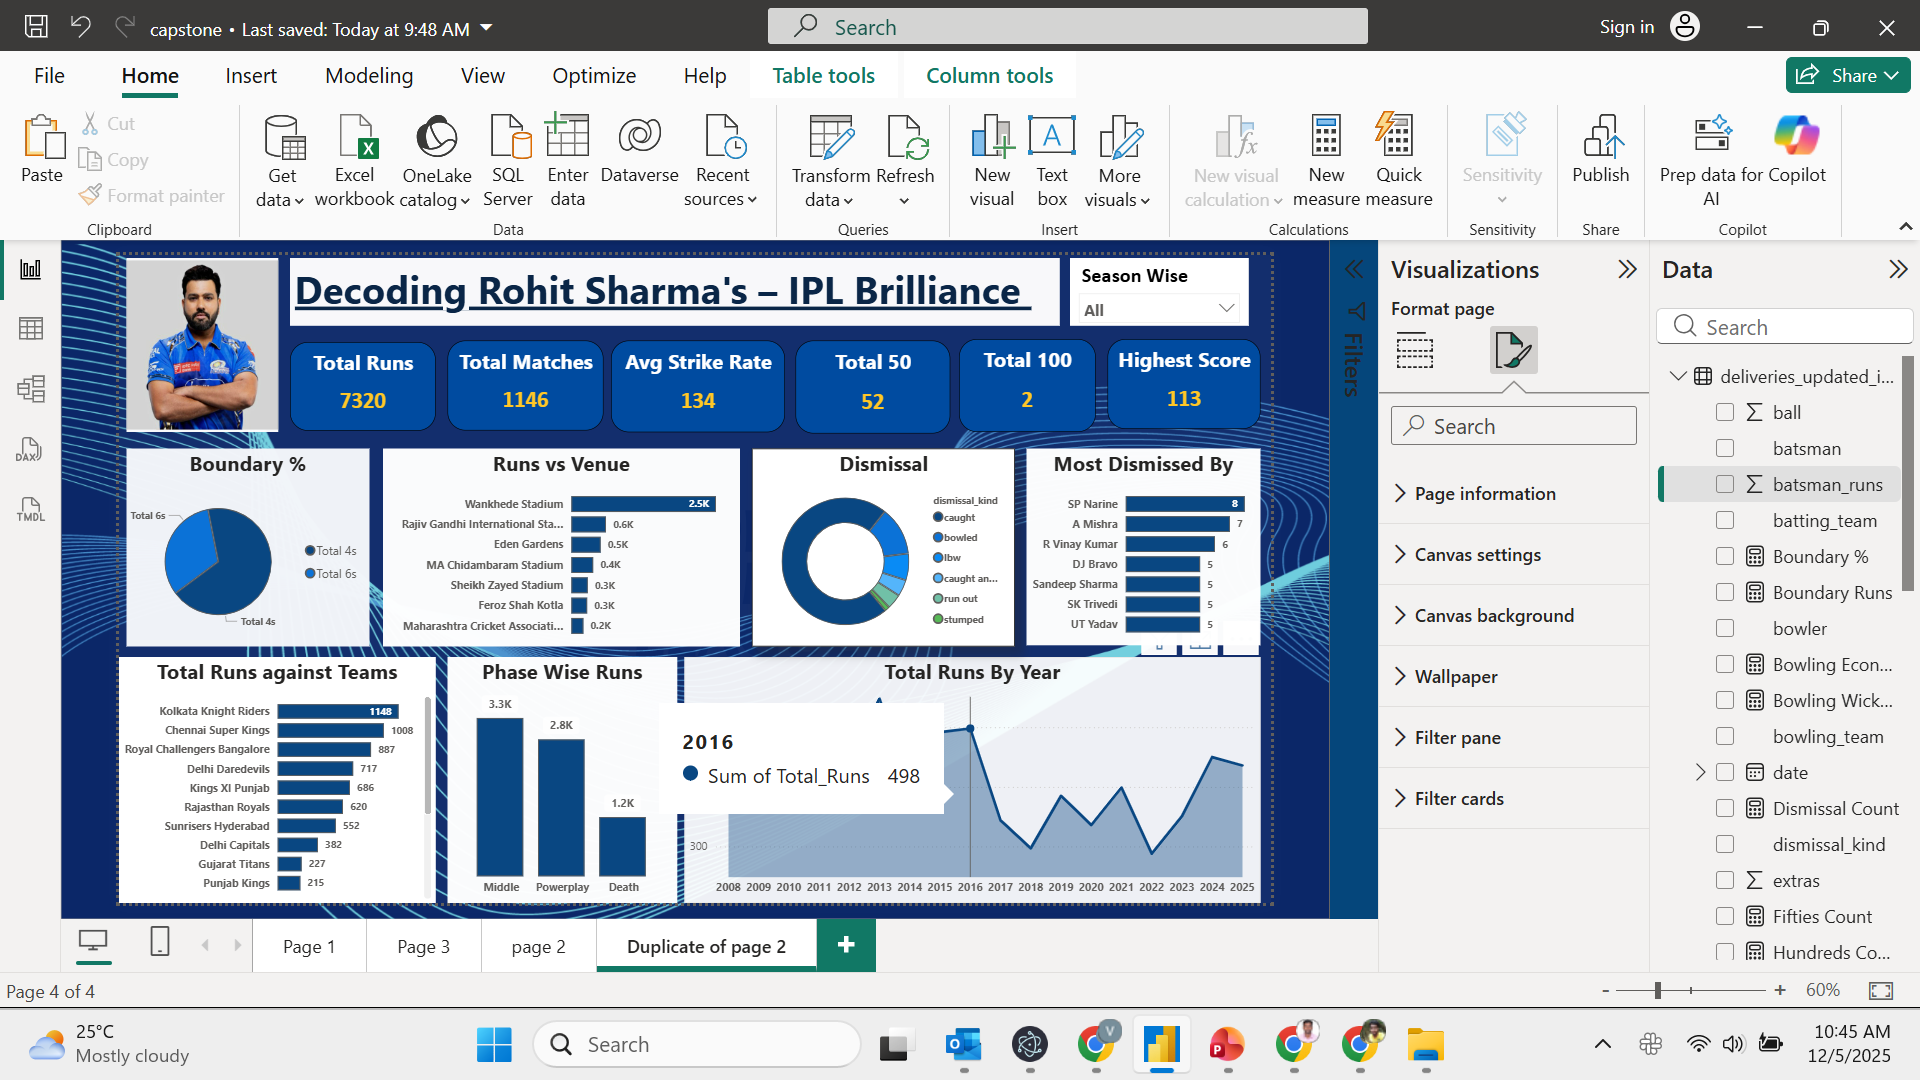

Layout of this report page (visuals, bound fields, positions):
{"tool":"powerbi","page":{"name":" page 2","canvas":[1280,720],"ordinal":1},"visuals":[{"type":"image","box":[8.3,3.3,168.3,193.3],"z":0},{"type":"textbox","box":[190,3.3,855,75],"z":1000},{"type":"card","title":"Total Runs","fields":{"Values":["Sum(deliveries_updated_ipl_upto_2025.Total_Runs)"]},"box":[190,96.7,161.7,98.3],"z":2000},{"type":"card","title":"Avg Strike Rate","fields":{"Values":["deliveries_updated_ipl_upto_2025.Strike Rate"]},"box":[546.7,95,193.3,101.7],"z":3000},{"type":"slicer","title":"Season","fields":{"Values":["deliveries_updated_ipl_upto_2025.Season"]},"box":[1056.7,3.3,198.3,75],"z":4000},{"type":"card","title":"Highest Score","fields":{"Values":["matches_updated_ipl_upto_2025.Highest Score"]},"box":[1098.3,93.3,170,100],"z":5000},{"type":"pieChart","title":"Boundary %","fields":{"Y":["deliveries_updated_ipl_upto_2025.Total 4s","deliveries_updated_ipl_upto_2025.Total 6s"]},"box":[8.3,215,270,220],"z":6000},{"type":"lineStackedColumnComboChart","title":"Phase Wise Runs","fields":{"Category":["deliveries_updated_ipl_upto_2025.Phase"],"Y":["Sum(deliveries_updated_ipl_upto_2025.Total_Runs)"]},"box":[365,446.7,255,273.3],"z":7000},{"type":"clusteredBarChart","title":"Runs vs Venue","fields":{"Category":["matches_updated_ipl_upto_2025.venue"],"Y":["Sum(deliveries_updated_ipl_upto_2025.Total_Runs)"]},"box":[293.3,215,396.7,220],"z":8000},{"type":"stackedAreaChart","title":"Total Runs By Year","fields":{"Category":["matches_updated_ipl_upto_2025.season"],"Y":["Sum(deliveries_updated_ipl_upto_2025.Total_Runs)"]},"box":[628.3,446.7,640,273.3],"z":9000},{"type":"clusteredBarChart","title":"Total Runs against Teams","fields":{"Category":["deliveries_updated_ipl_upto_2025.bowling_team"],"Y":["Sum(deliveries_updated_ipl_upto_2025.Total_Runs)"]},"box":[0,446.7,351.7,273.3],"z":10000},{"type":"card","title":"Total Matches","fields":{"Values":["deliveries_updated_ipl_upto_2025.Total Matches"]},"box":[365,95,173.3,100],"z":11000},{"type":"donutChart","title":"Dismissal ","fields":{"Category":["deliveries_updated_ipl_upto_2025.dismissal_kind"],"Y":["deliveries_updated_ipl_upto_2025.Dismissal Count"]},"box":[703.3,215,291.7,220],"z":12000},{"type":"barChart","title":"Most Dismissed By","fields":{"Category":["deliveries_updated_ipl_upto_2025.bowler"],"Y":["deliveries_updated_ipl_upto_2025.Most Dismissals By Bowler"]},"box":[1008.3,215,260,218.3],"z":13000},{"type":"card","title":"Total 100","fields":{"Values":["deliveries_updated_ipl_upto_2025.Total 100"]},"box":[933.3,93.3,151.7,103.3],"z":14000},{"type":"card","title":"Total 50","fields":{"Values":["deliveries_updated_ipl_upto_2025.Total 50"]},"box":[751.7,95,171.7,103.3],"z":15000}]}

Visuals, with their boxes on the page's 1280x720 design canvas (x1, y1, x2, y2). These are canvas units, not pixel positions in the 1920x1080 screenshot, which may show the page scaled, cropped or inside an application window:
image: select_region(8, 3, 177, 197)
textbox: select_region(190, 3, 1045, 78)
"Total Runs" card: select_region(190, 97, 352, 195)
"Avg Strike Rate" card: select_region(547, 95, 740, 197)
"Season" slicer: select_region(1057, 3, 1255, 78)
"Highest Score" card: select_region(1098, 93, 1268, 193)
"Boundary %" pieChart: select_region(8, 215, 278, 435)
"Phase Wise Runs" lineStackedColumnComboChart: select_region(365, 447, 620, 720)
"Runs vs Venue" clusteredBarChart: select_region(293, 215, 690, 435)
"Total Runs By Year" stackedAreaChart: select_region(628, 447, 1268, 720)
"Total Runs against Teams" clusteredBarChart: select_region(0, 447, 352, 720)
"Total Matches" card: select_region(365, 95, 538, 195)
"Dismissal " donutChart: select_region(703, 215, 995, 435)
"Most Dismissed By" barChart: select_region(1008, 215, 1268, 433)
"Total 100" card: select_region(933, 93, 1085, 197)
"Total 50" card: select_region(752, 95, 923, 198)
